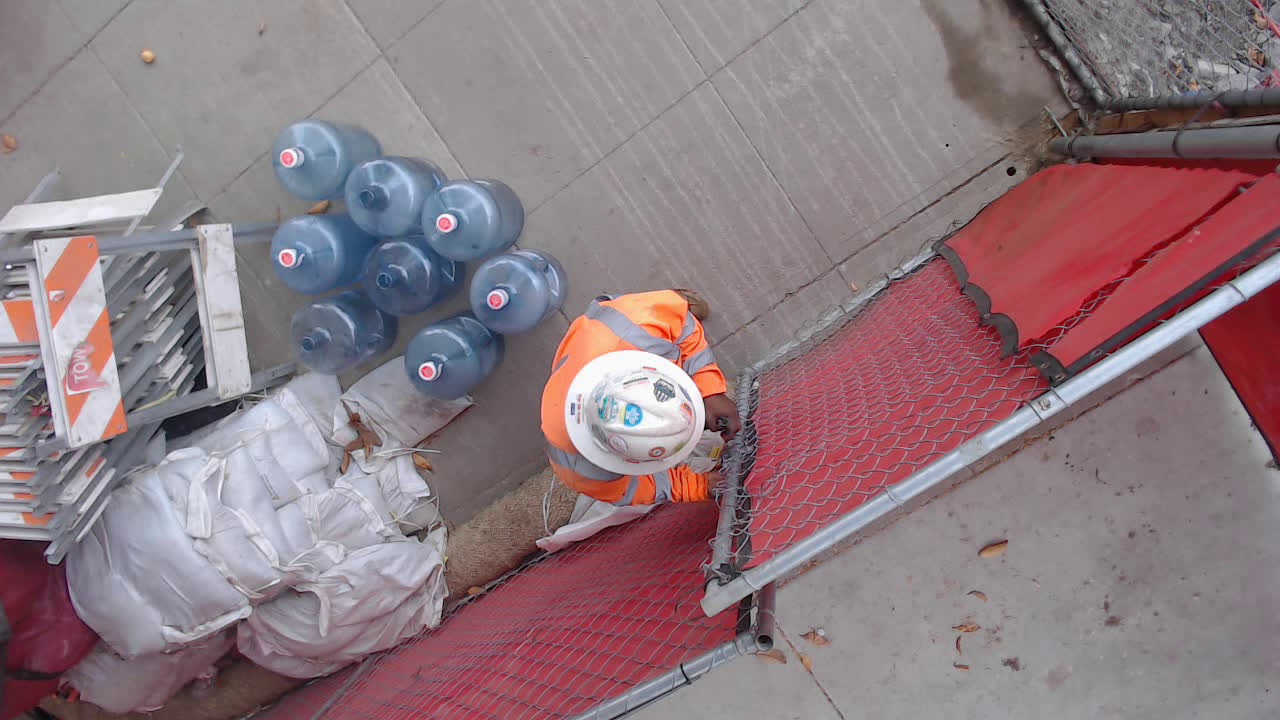hardhat: (563, 349, 703, 481)
safetyvest: (542, 291, 717, 507)
